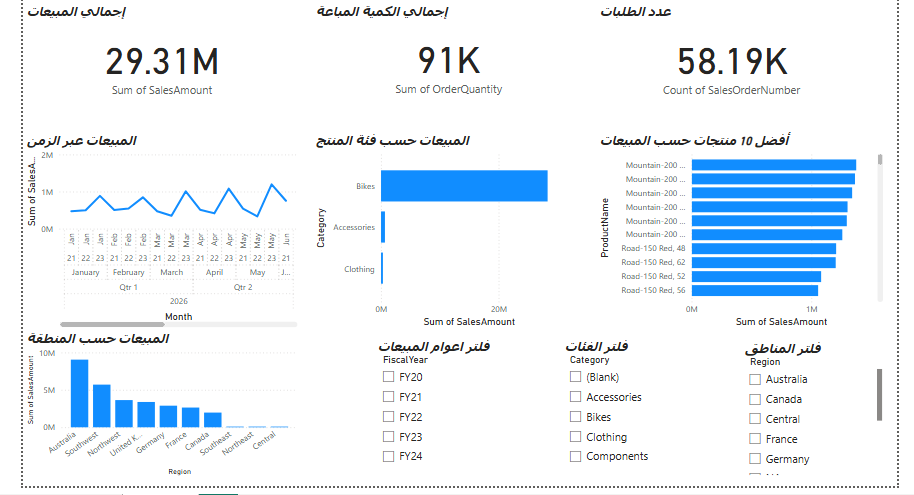

Layout of this report page (visuals, bound fields, positions):
{"tool":"powerbi","page":{"name":"Page 1","canvas":[1280,720],"ordinal":0},"visuals":[{"type":"card","title":"إجمالي المبيعات","fields":{"Values":["Sum(Sales.SalesAmount)"]},"box":[0,13.4,406.5,157.9],"z":0},{"type":"card","title":"إجمالي الكمية المباعة","fields":{"Values":["Sum(Sales.OrderQuantity)"]},"box":[423.3,13.4,399.8,156.2],"z":1000},{"type":"card","title":"عدد الطلبات","fields":{"Values":["CountNonNull(Sales.SalesOrderNumber)"]},"box":[838.2,13.4,396.4,157.9],"z":2000},{"type":"lineChart","title":"المبيعات عبر الزمن","fields":{"Category":["Calendar.MonthYear.Variation.Date Hierarchy.Year","Calendar.MonthYear.Variation.Date Hierarchy.Quarter","Calendar.MonthYear.Variation.Date Hierarchy.Month","Calendar.MonthYear.Variation.Date Hierarchy.Day","Calendar.Month"],"Y":["Sum(Sales.SalesAmount)"]},"box":[0,201.6,406.5,290.6],"z":3000},{"type":"barChart","title":"المبيعات حسب فئة المنتج","fields":{"Category":["Product.Category"],"Y":["Sum(Sales.SalesAmount)"]},"box":[423.3,201.6,376.3,290.6],"z":3001},{"type":"barChart","title":"أفضل 10 منتجات حسب المبيعات","fields":{"Category":["Product.ProductName"],"Y":["Sum(Sales.SalesAmount)"]},"box":[838.2,201.6,425,290.6],"z":3002},{"type":"columnChart","title":"المبيعات حسب المنطقة","fields":{"Category":["Territories.Region"],"Y":["Sum(Sales.SalesAmount)"]},"box":[0,492.2,406.5,218.4],"z":3003},{"type":"slicer","title":"فلتر اعوام المبيعات","fields":{"Values":["Calendar.FiscalYear"]},"box":[513.7,503.4,240,216.6],"z":3004},{"type":"slicer","title":"فلتر الفئات","fields":{"Values":["Product.Category"]},"box":[787.3,503.4,248.8,216.6],"z":3005},{"type":"slicer","title":"فلتر  المناطق","fields":{"Values":["Territories.Region"]},"box":[1050.7,506.3,212.2,203.4],"z":3006}]}

Visuals, with their boxes on the page's 1280x720 design canvas (x1, y1, x2, y2). These are canvas units, not pixel positions in the 914x495 screenshot, which may show the page scaled, cropped or inside an application window:
"إجمالي المبيعات" card: [0,13,406,171]
"إجمالي الكمية المباعة" card: [423,13,823,170]
"عدد الطلبات" card: [838,13,1235,171]
"المبيعات عبر الزمن" lineChart: [0,202,406,492]
"المبيعات حسب فئة المنتج" barChart: [423,202,800,492]
"أفضل 10 منتجات حسب المبيعات" barChart: [838,202,1263,492]
"المبيعات حسب المنطقة" columnChart: [0,492,406,711]
"فلتر اعوام المبيعات" slicer: [514,503,754,720]
"فلتر الفئات" slicer: [787,503,1036,720]
"فلتر  المناطق" slicer: [1051,506,1263,710]
